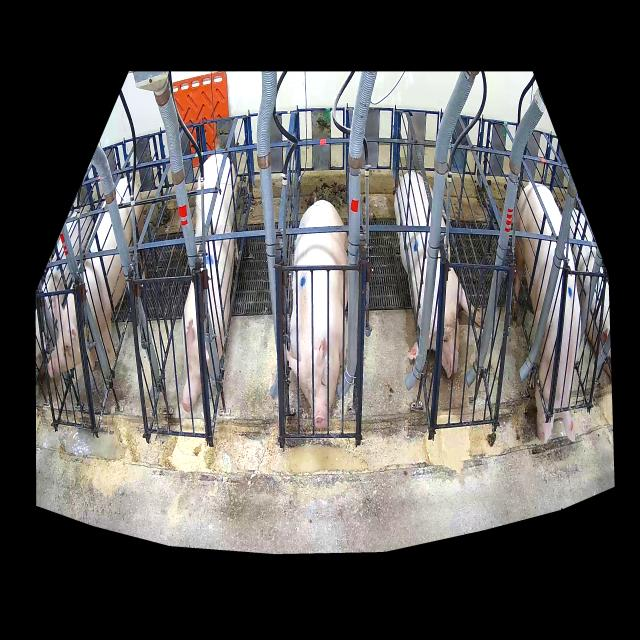pig: (48, 177, 148, 379), (511, 183, 581, 443), (395, 172, 482, 378), (182, 153, 238, 413), (290, 200, 348, 429)
